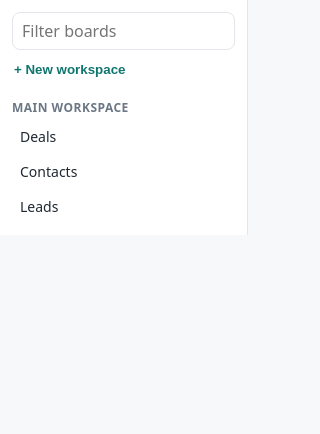
LeftNav › creates a workspace and shows it (north-star 1a)
This screenshot has width=320, height=434.
Click the button with test id "new-workspace". click: (124, 70)
box: [12,58,235,81]
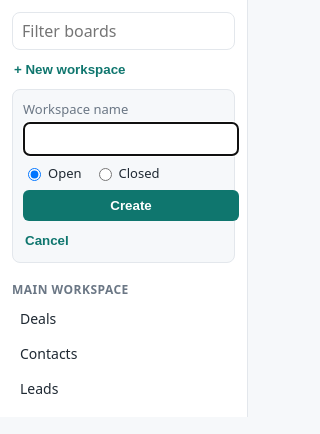
Type "Sales" into the field with test id "workspace-name". click: (131, 139)
box: [23,122,239,156]
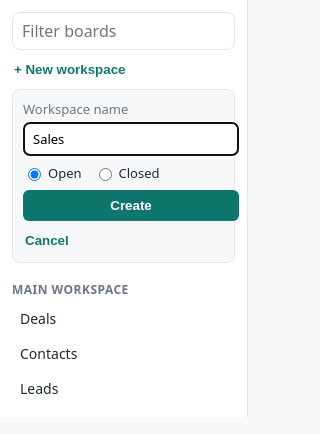
Click the radio button with test id "workspace-closed". click: (105, 174)
box: [98,168,112,181]
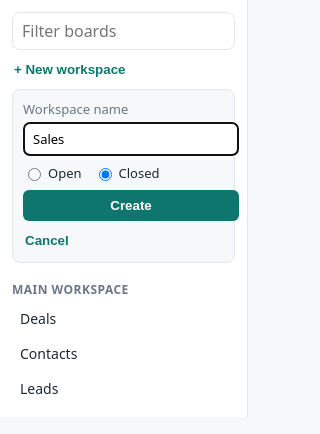
Click the button with test id "workspace-create". click: (131, 206)
box: [23,190,239,221]
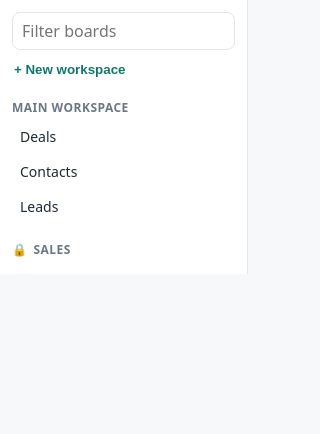
Now the text "Sales" is shown, box [34,241,71,258]
